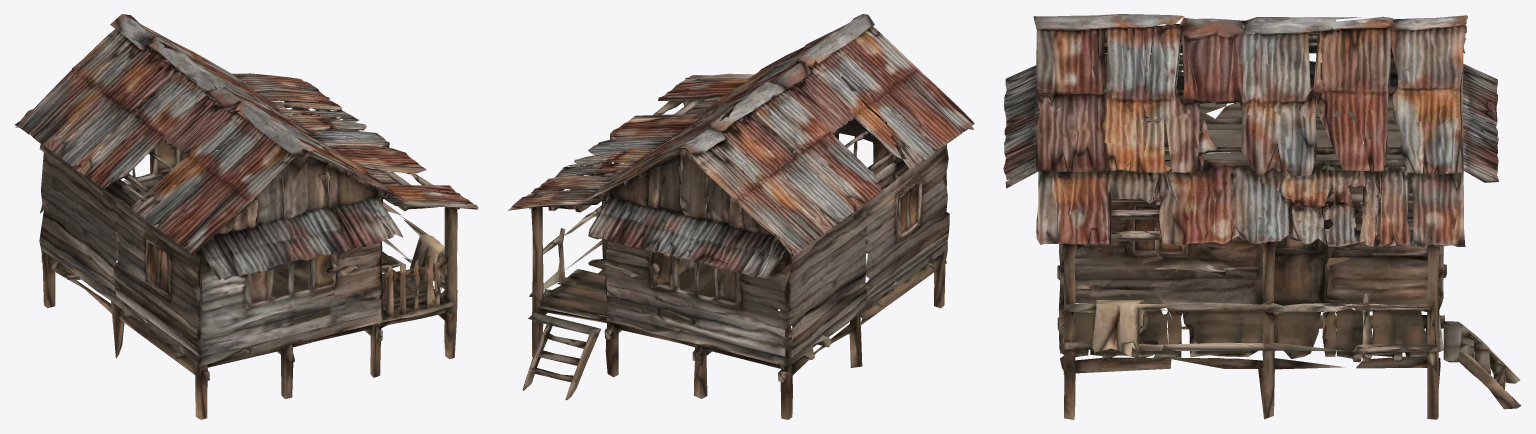
The model's file is baankhonsuan.glb.
3 renders of one model, left to right at view 1: azimuth 30°, elevation 25°; view 2: azimuth 150°, elevation 25°; view 3: azimuth 270°, elevation 25°, orthographic. The views are drawn at different scales.
Parts seen in each view (by area): view 1: tripo_node_2ab5dc92-5b32-4638-b4f4-4ac771f6c5ef_0; view 2: tripo_node_2ab5dc92-5b32-4638-b4f4-4ac771f6c5ef_0; view 3: tripo_node_2ab5dc92-5b32-4638-b4f4-4ac771f6c5ef_0.
Boxes of the visible parts, x1,y1,x2,y2 form: tripo_node_2ab5dc92-5b32-4638-b4f4-4ac771f6c5ef_0: (14,14,478,419); tripo_node_2ab5dc92-5b32-4638-b4f4-4ac771f6c5ef_0: (508,14,974,419); tripo_node_2ab5dc92-5b32-4638-b4f4-4ac771f6c5ef_0: (1003,14,1521,419).
Bounding box in the file's own units: 0.7698 × 0.6672 × 0.9998.
1 material, 1 textured.
